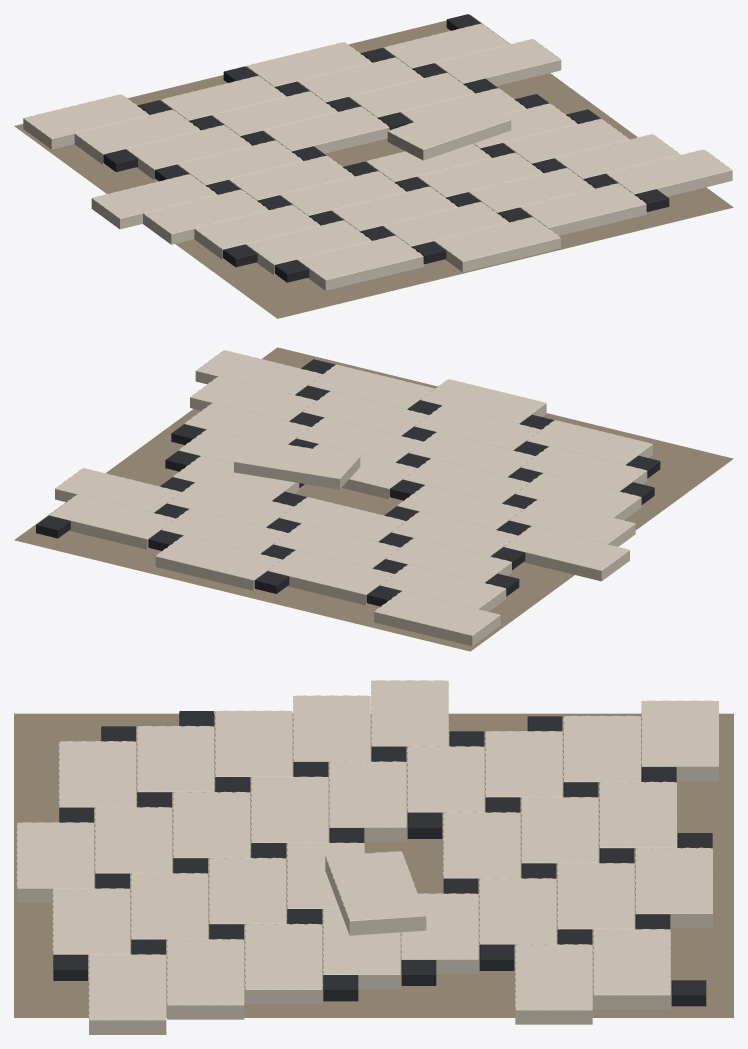
The model's file is terilgan.glb.
3 renders of one model, top to bottom at view 1: azimuth 30°, elevation 25°; view 2: azimuth 150°, elevation 25°; view 3: azimuth 270°, elevation 25°, orthographic. The views are drawn at different scales.
Visible parts, largest first — view 1: qum, t.039, t.014, t.002, t.031, t.061, t.048, t.041, t.029, t.008, t.010, t.027 (+26 smaller); view 2: qum, t.029, t.039, t.010, t.059, t.062, t.045, t.006, t.027, t.008, t.048, t.049 (+23 smaller); view 3: qum, t.039, t.048, t.050, t.049, t.062, t.061, t.059, t.021, t.029, t.014, t.031 (+29 smaller).
Boxes of the visible parts, x1,y1,x2,y2 form: qum: [14, 14, 733, 318]; t.039: [387, 101, 511, 160]; t.014: [434, 217, 560, 272]; t.002: [297, 235, 423, 290]; t.031: [520, 183, 646, 235]; t.061: [435, 39, 561, 86]; t.048: [606, 149, 732, 196]; t.041: [263, 106, 389, 153]; t.029: [23, 94, 148, 149]; t.008: [143, 189, 268, 244]; t.010: [91, 174, 217, 229]; t.027: [74, 109, 200, 164]; qum: [14, 347, 733, 651]; t.029: [374, 591, 500, 646]; t.039: [234, 439, 360, 489]; t.010: [504, 526, 629, 581]; t.059: [155, 535, 281, 590]; t.062: [49, 494, 175, 549]; t.045: [268, 550, 393, 605]; t.006: [515, 473, 641, 520]; t.027: [380, 564, 506, 611]; t.008: [509, 499, 635, 546]; t.048: [195, 350, 321, 394]; t.049: [190, 376, 316, 421]; qum: [14, 713, 733, 1017]; t.039: [325, 851, 426, 935]; t.048: [88, 954, 166, 1034]; t.050: [244, 923, 322, 1004]; t.049: [166, 939, 244, 1019]; t.062: [593, 929, 670, 1009]; t.061: [515, 944, 592, 1024]; t.059: [635, 847, 712, 928]; t.021: [329, 761, 406, 841]; t.029: [641, 700, 719, 780]; t.014: [16, 822, 94, 902]; t.031: [52, 888, 130, 968].
Size of the model in its own units: 1.86 by 0.078 by 1.66.
